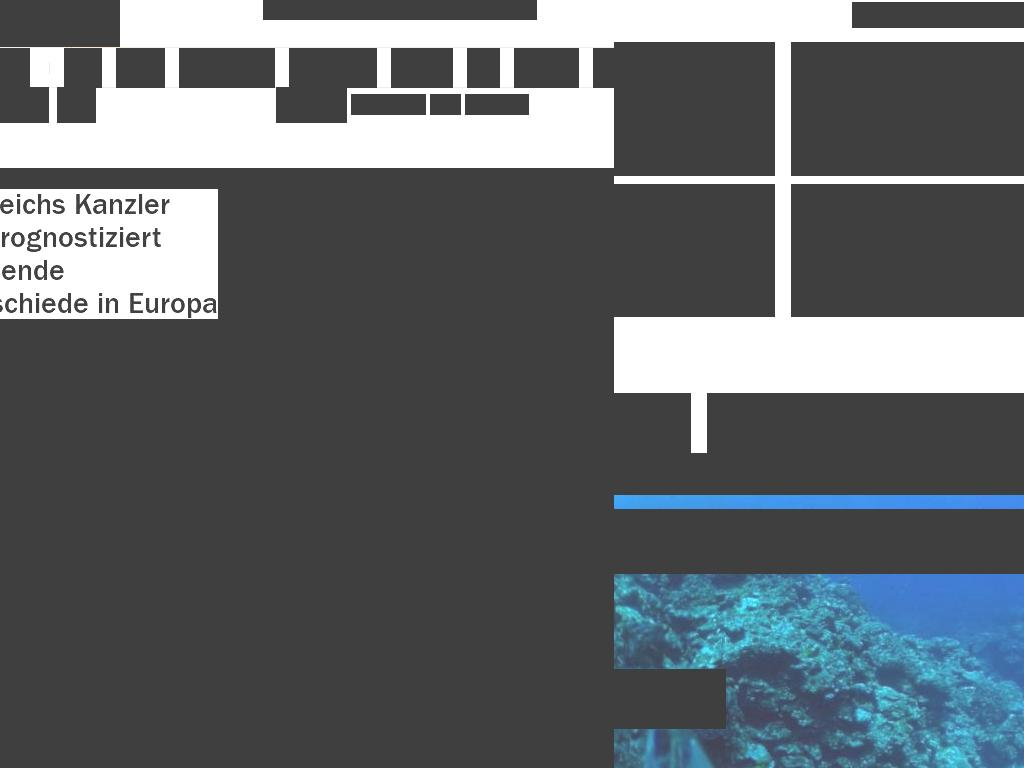button: (0, 168, 614, 453), (0, 643, 471, 768), (52, 611, 482, 656), (491, 702, 614, 761), (614, 669, 726, 729), (179, 48, 275, 88), (289, 48, 377, 88), (803, 152, 1015, 165), (514, 48, 579, 88), (276, 87, 347, 123), (803, 294, 1015, 306), (391, 48, 453, 88), (532, 513, 614, 537), (116, 48, 165, 88), (614, 152, 763, 165), (614, 294, 763, 306), (0, 87, 49, 123), (0, 618, 51, 649), (351, 94, 426, 115), (64, 48, 102, 88), (57, 87, 96, 123), (465, 94, 529, 115), (467, 48, 500, 88), (0, 48, 30, 88), (593, 48, 614, 88), (430, 94, 461, 115)
heading: (62, 485, 536, 570), (0, 189, 218, 319), (614, 509, 1024, 574), (614, 453, 1024, 495), (803, 77, 1015, 141), (614, 77, 763, 141), (803, 240, 1015, 282), (614, 240, 763, 282), (0, 168, 226, 188), (852, 2, 1024, 28), (491, 653, 614, 688), (540, 718, 614, 745)
iframe: (0, 453, 614, 768)
image: (246, 168, 614, 453), (0, 642, 472, 768), (791, 42, 1024, 176), (791, 184, 1024, 317), (614, 42, 775, 176), (614, 184, 775, 317), (707, 393, 1024, 453), (0, 0, 120, 47), (263, 0, 537, 20)
link: (502, 611, 604, 656), (235, 587, 291, 611), (350, 587, 406, 611), (124, 587, 176, 611), (568, 587, 614, 611), (465, 587, 509, 611), (44, 587, 65, 611)
text: (0, 333, 219, 415), (126, 622, 367, 647), (0, 418, 226, 438), (77, 622, 127, 647), (0, 621, 41, 646), (85, 399, 136, 415), (10, 98, 49, 111)
